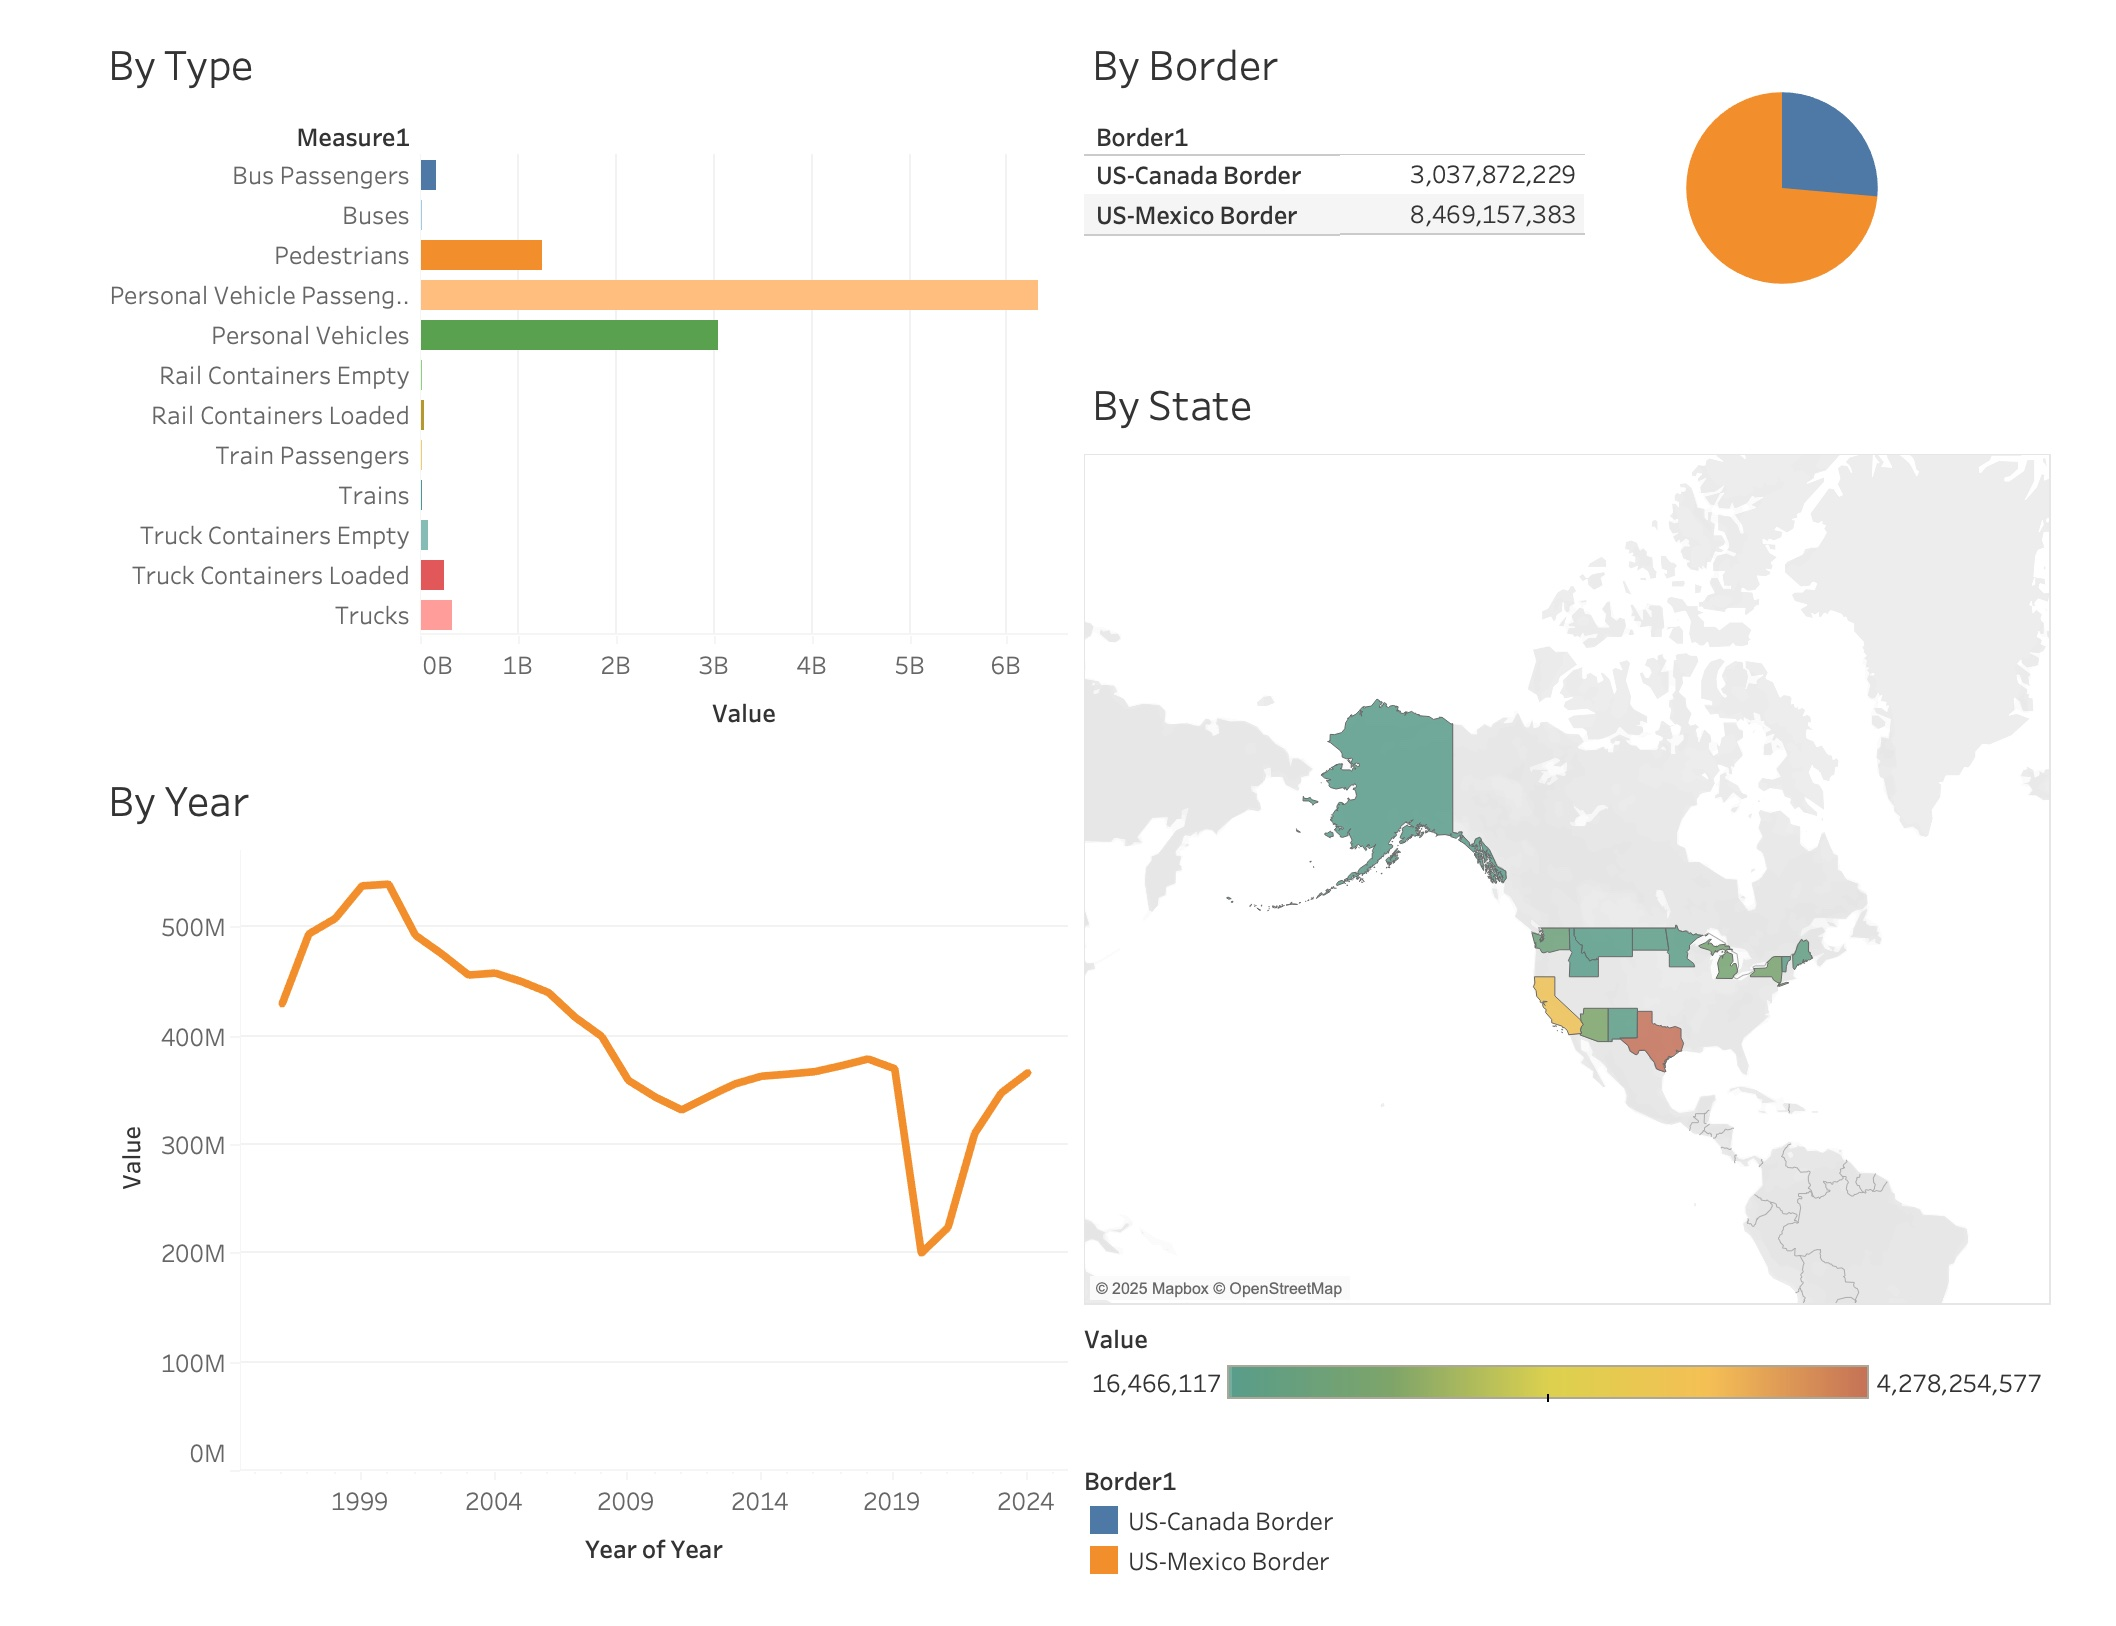

What the dashboard file says about the page in this screenshot:
{"tool":"tableau","page":{"name":"Number of Border Crossings","canvas":[1000,800],"ordinal":0},"visuals":[{"type":"worksheet","title":"By Type","mark":"Automatic","rows":["Measure"],"cols":["Value"],"box":[8,8,492,368]},{"type":"worksheet","title":"By Border","mark":"Automatic","rows":["Border"],"box":[500,8,269,170]},{"type":"worksheet","title":"border","mark":"Pie","box":[769,8,223,170]},{"type":"worksheet","title":"By State","mark":"Automatic","box":[500,178,492,431]},{"type":"worksheet","title":"By Year","mark":"Automatic","rows":["Value"],"cols":["Date - Split 2"],"box":[8,376,492,416]},{"type":"legend","title":"By State","param":"[federated.12yeuo30natu8h1ghlubf0mwf3u5].[sum:Value:qk]","box":[500,609,492,71]},{"type":"legend","title":"border","param":"[federated.12yeuo30natu8h1ghlubf0mwf3u5].[none:Border:nk]","box":[500,680,492,66]},{"type":"legend","title":"border","param":"[federated.12yeuo30natu8h1ghlubf0mwf3u5].[sum:Value:qk]","box":[500,746,492,46]}]}

Visuals, with their boxes on the page's 1000x800 design canvas (x1, y1, x2, y2). These are canvas units, not pixel positions in the 2116x1626 screenshot, which may show the page scaled, cropped or inside an application window:
"By Type" worksheet: bbox=[8, 8, 500, 376]
"By Border" worksheet: bbox=[500, 8, 769, 178]
"border" worksheet (Pie marks): bbox=[769, 8, 992, 178]
"By State" worksheet: bbox=[500, 178, 992, 609]
"By Year" worksheet: bbox=[8, 376, 500, 792]
"By State" legend: bbox=[500, 609, 992, 680]
"border" legend: bbox=[500, 680, 992, 746]
"border" legend: bbox=[500, 746, 992, 792]
